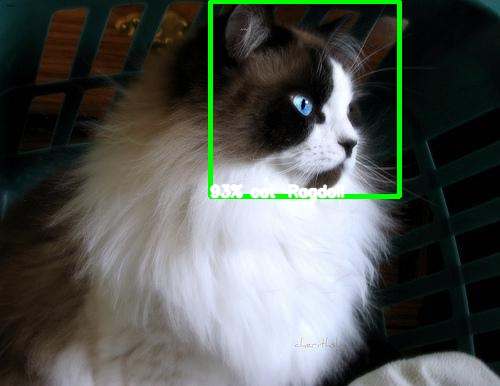cat-Ragdoll: (209, 1, 359, 194)
